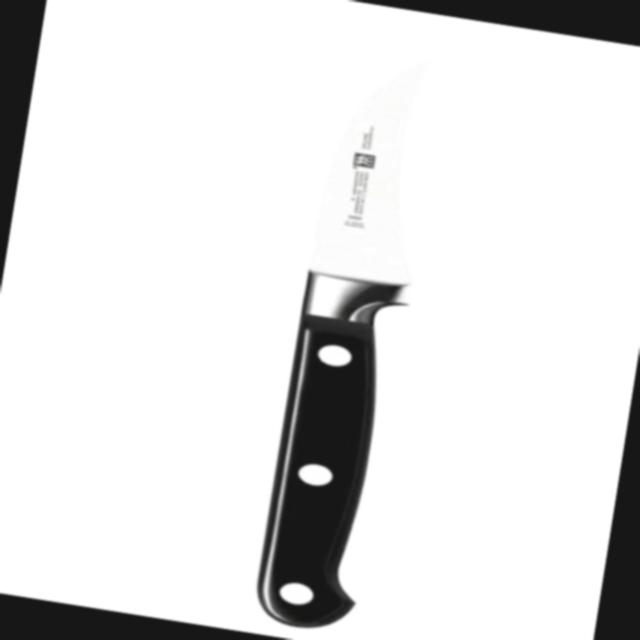knife: (193, 19, 504, 640)
